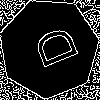D: (24, 23, 80, 74)
